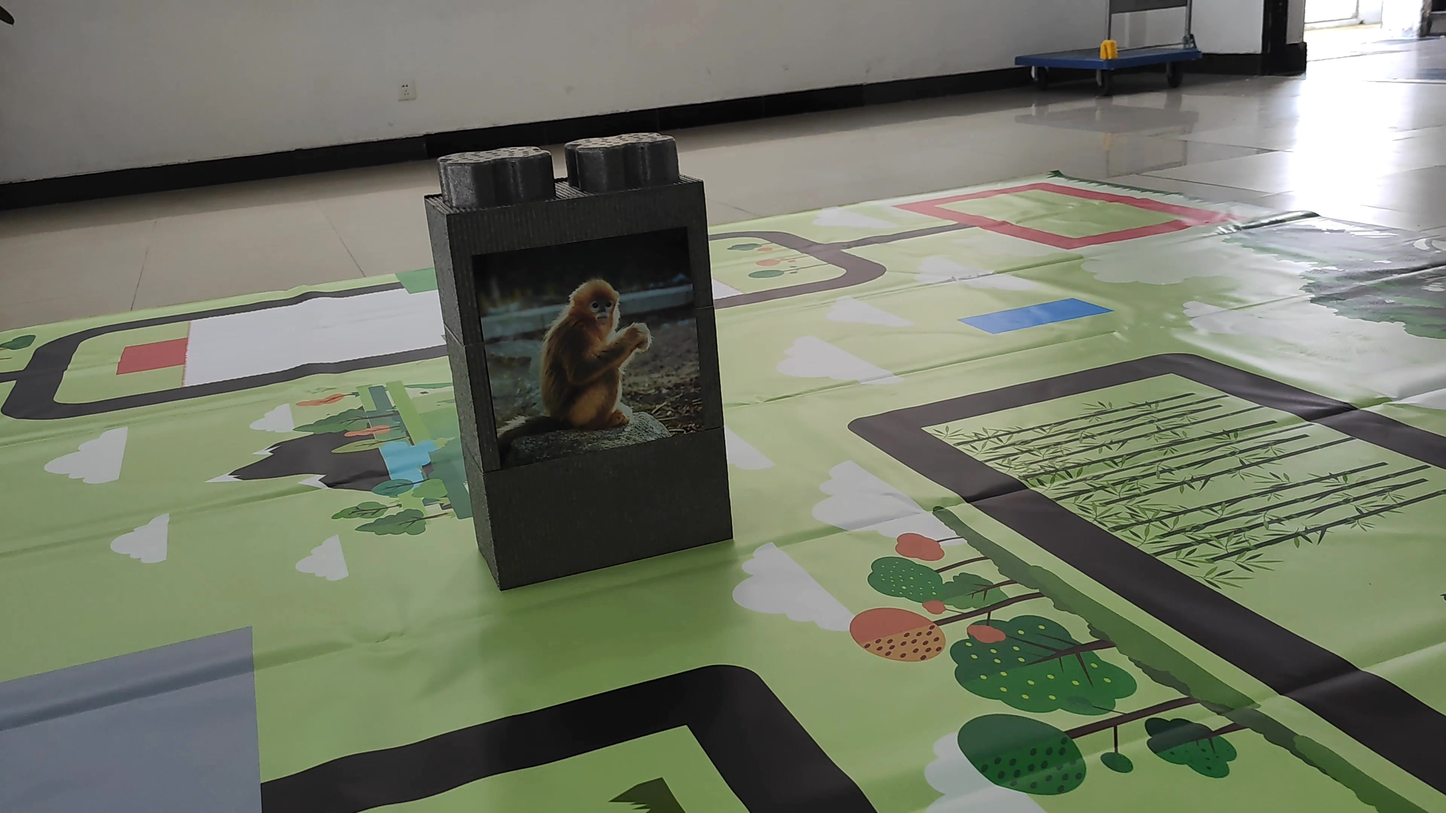monkey: (485, 271, 677, 452)
